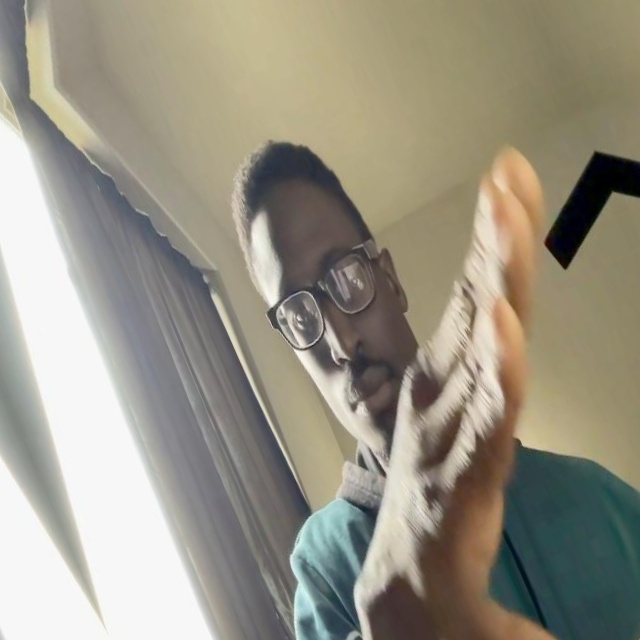Paper: (217, 140, 640, 640)
